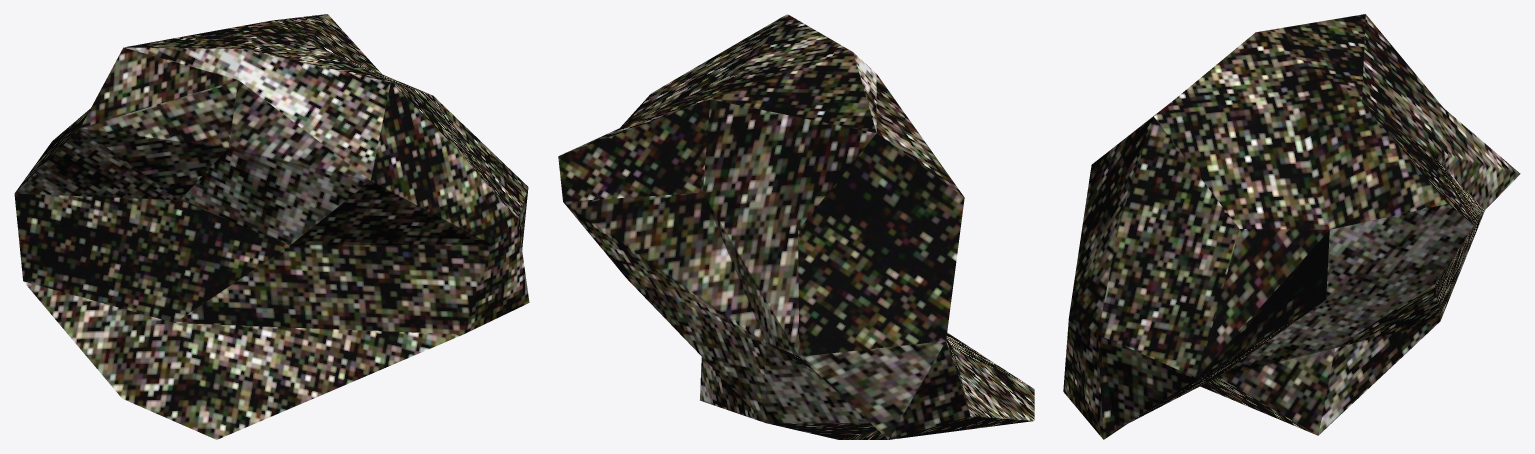
File: Stone1.FBX
The picture shows the model from 3 angles, left to right: view 1: azimuth 30°, elevation 25°; view 2: azimuth 150°, elevation 25°; view 3: azimuth 270°, elevation 25°; orthographic projection. The views are drawn at different scales.
Parts seen in each view (by area): view 1: GeoSphere01; view 2: GeoSphere01; view 3: GeoSphere01.
Boxes of the visible parts, box(x1,y1,x2,y2) form: GeoSphere01: box(14, 14, 529, 439); GeoSphere01: box(558, 14, 1034, 439); GeoSphere01: box(1063, 14, 1520, 439).
Size of the model in its own units: 140 by 118 by 108.
